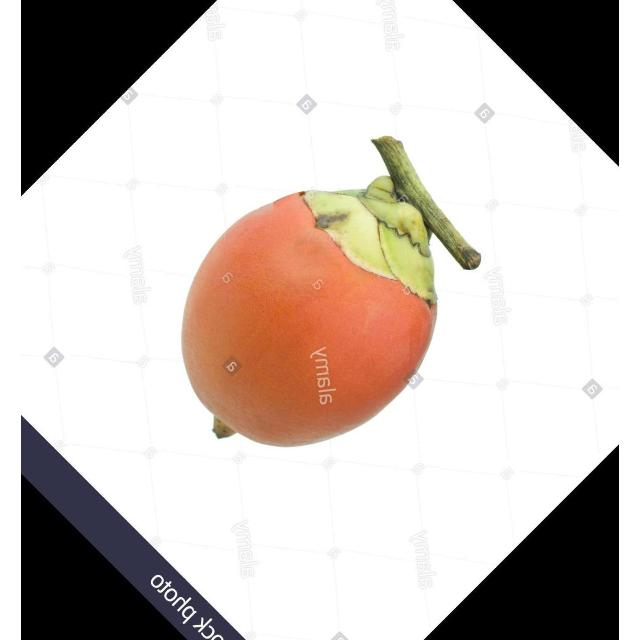good: (180, 136, 482, 450)
